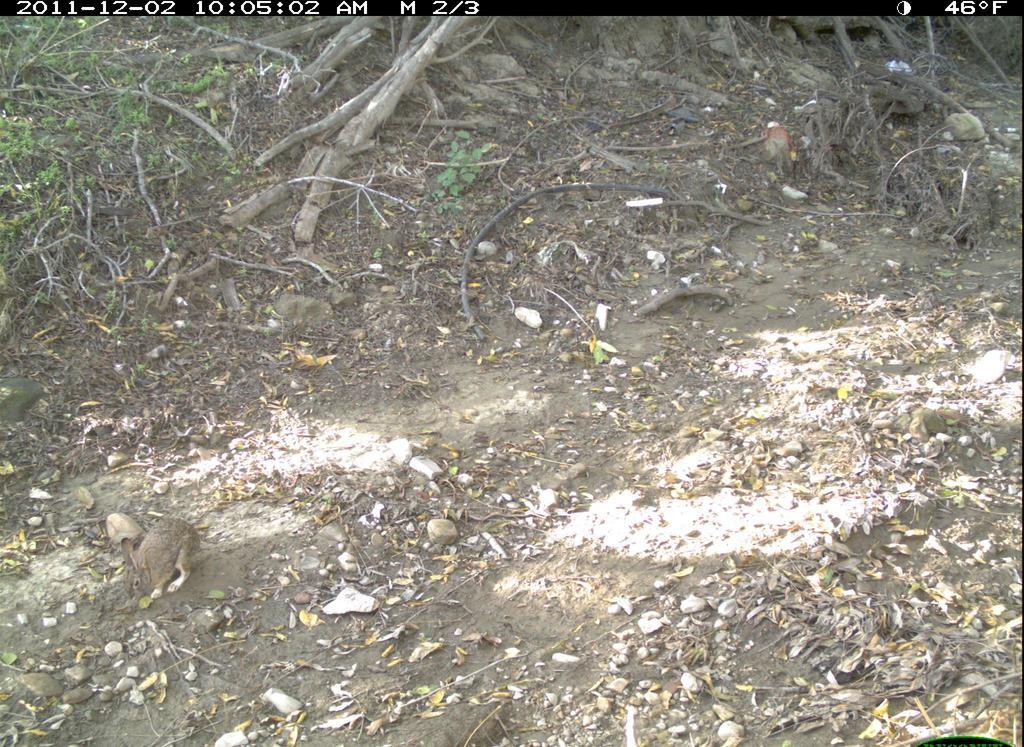rabbit: (105, 510, 216, 603)
